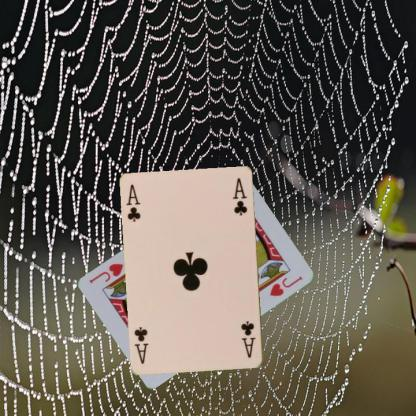Ac: (239, 318, 257, 360), (124, 182, 142, 224)
